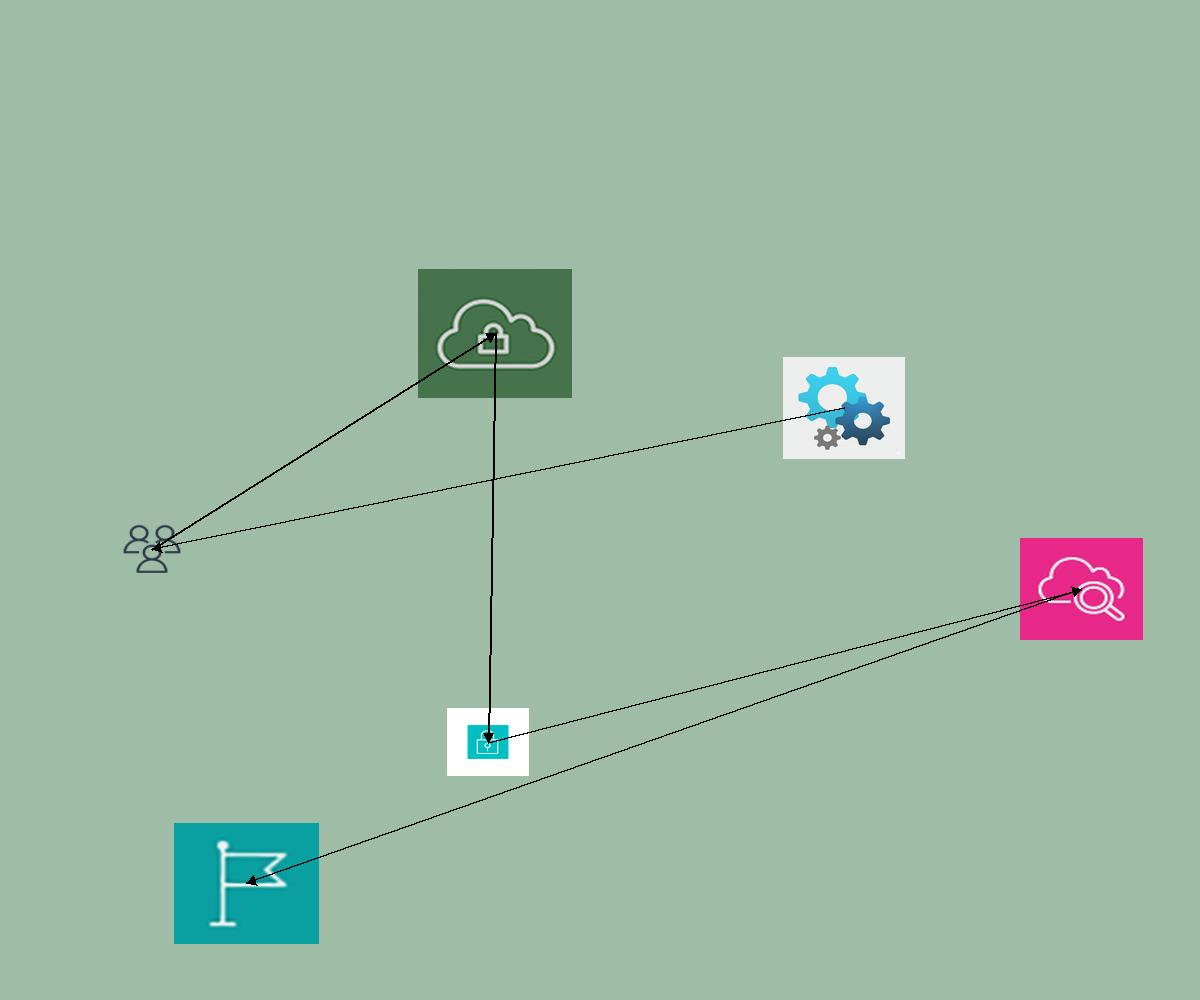AWS-CloudWatch: (1020, 538, 1143, 640)
AWS-Private-subnet: (447, 708, 529, 776)
AWS-Private_vpc: (418, 269, 572, 398)
AWS-Region: (174, 823, 319, 944)
AWS-Res_Users: (121, 523, 183, 575)
Azure_api: (783, 357, 905, 459)
